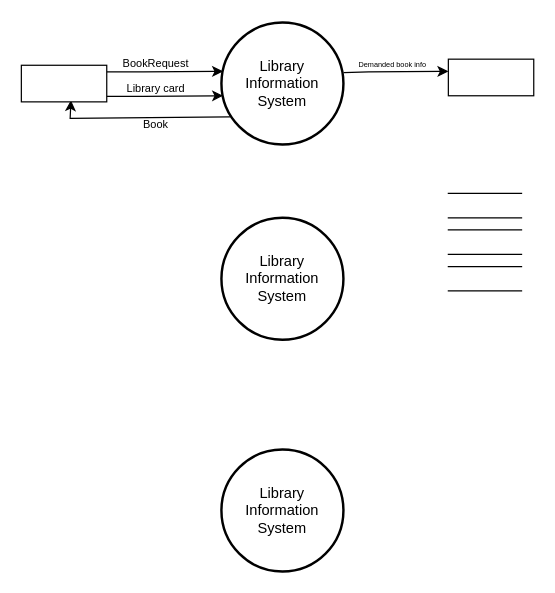
Image size: 555x593. Some labels were removed from this diagram. The centre of each missing label's shape, as x and y in pixels:
"Display of Books" belongs at (x=490, y=77).
"Students" belongs at (x=63, y=83).
